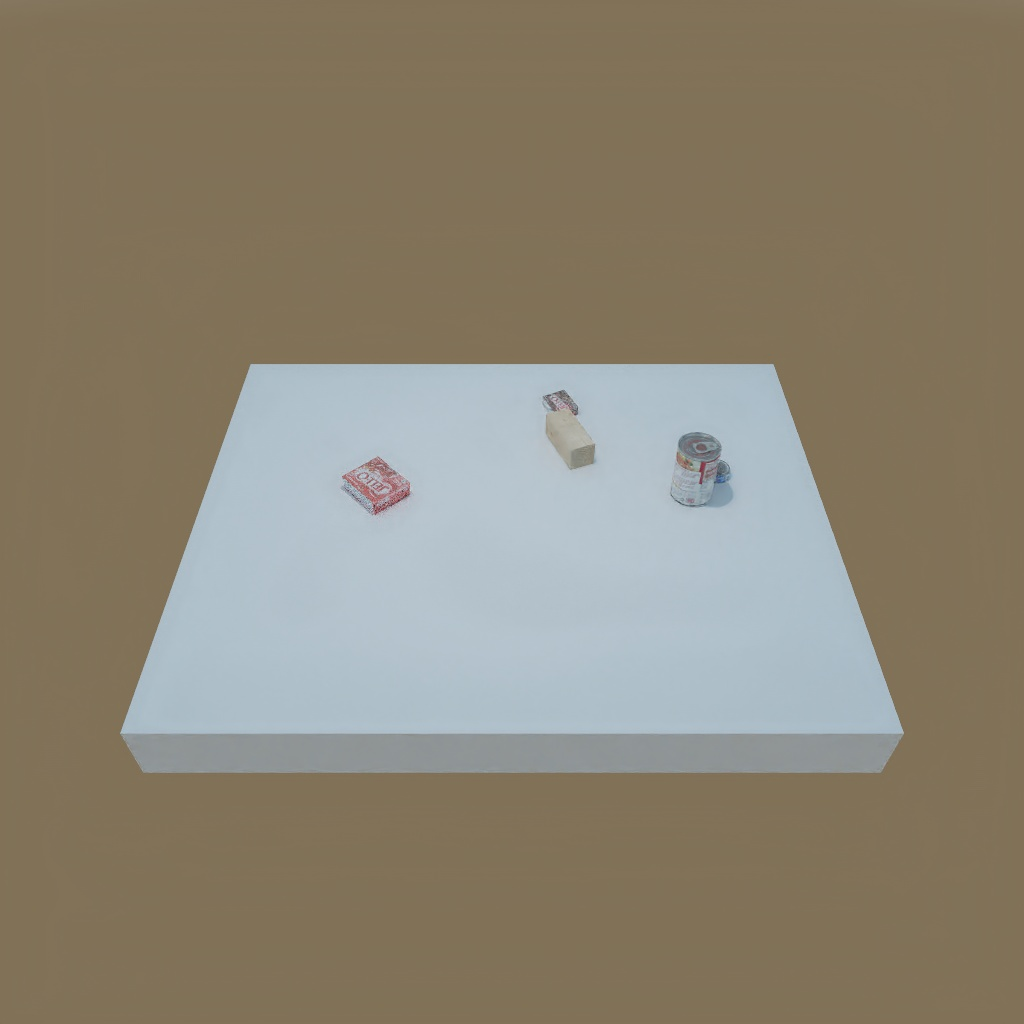gelatin_box: (344, 455, 413, 515)
pudding_box: (539, 387, 583, 419)
tomato_soup_can: (669, 429, 721, 510)
wood_block: (540, 409, 592, 472)
